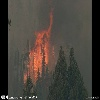fire: (24, 24, 51, 83)
